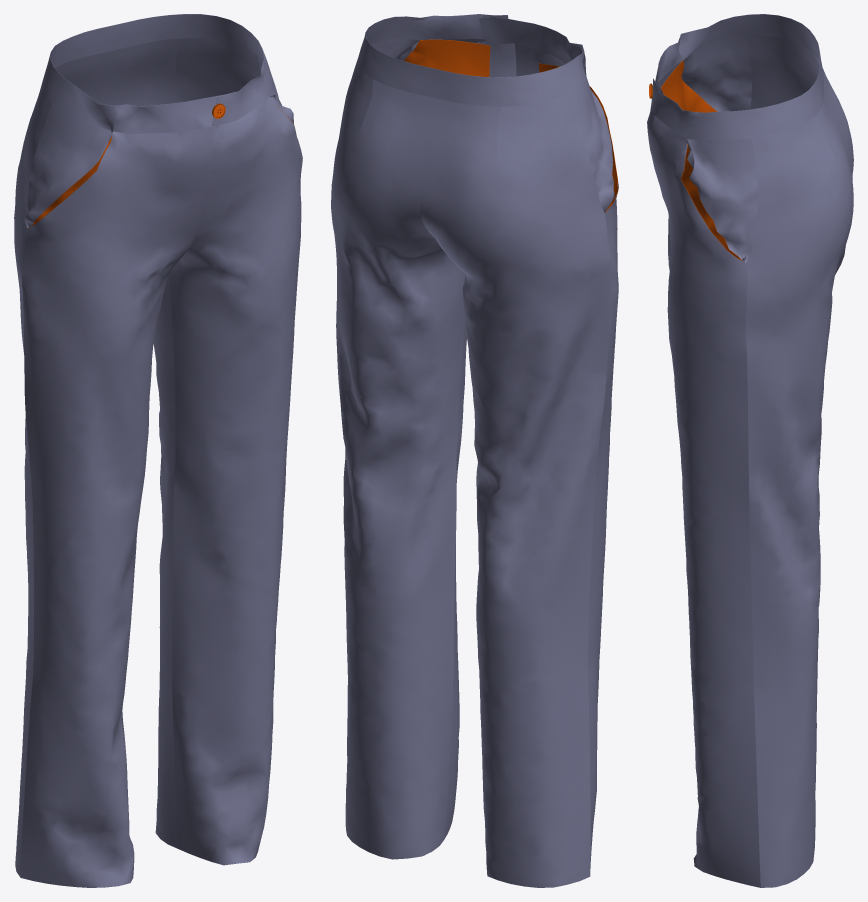
3 renders of one model, left to right at view 1: azimuth 30°, elevation 25°; view 2: azimuth 150°, elevation 25°; view 3: azimuth 270°, elevation 25°, orthographic. The views are drawn at different scales.
Parts seen in each view (by area): view 1: Pattern2D_766542, Pattern2D_766544, AMFI BAP_2, OPC00WAB4, AMFI BAP_3, Pattern2D_766543; view 2: AMFI BAP_3, AMFI BAP_2, OPC00WAB4, Pattern2D_766542, Pattern2D_766543, Pattern2D_766544, Pattern2D_766546, FLF_1, Pattern2D_766545; view 3: AMFI BAP_2, Pattern2D_766544, OPC00WAB4, Pattern2D_766545, AMFI BAP_3, Pattern2D_766543, Pattern2D_766548, Pattern2D_766546.
Boxes of the visible parts, <box> form: Pattern2D_766542: <box>20,126,212,887</box>; Pattern2D_766544: <box>169,95,302,865</box>; AMFI BAP_2: <box>101,37,260,848</box>; OPC00WAB4: <box>42,14,272,133</box>; AMFI BAP_3: <box>14,50,124,877</box>; Pattern2D_766543: <box>24,103,111,227</box>; AMFI BAP_3: <box>420,92,611,887</box>; AMFI BAP_2: <box>331,58,465,859</box>; OPC00WAB4: <box>358,14,586,106</box>; Pattern2D_766542: <box>514,43,618,868</box>; Pattern2D_766543: <box>575,71,614,212</box>; Pattern2D_766544: <box>425,39,484,838</box>; Pattern2D_766546: <box>404,39,490,76</box>; FLF_1: <box>475,42,516,77</box>; Pattern2D_766545: <box>371,39,419,60</box>; AMFI BAP_2: <box>746,86,853,887</box>; Pattern2D_766544: <box>647,107,760,887</box>; OPC00WAB4: <box>651,14,823,139</box>; Pattern2D_766545: <box>686,139,757,262</box>; AMFI BAP_3: <box>747,36,853,693</box>; Pattern2D_766543: <box>681,36,752,111</box>; Pattern2D_766548: <box>661,60,717,112</box>; Pattern2D_766546: <box>681,145,741,260</box>.
Size of the model in its own units: 40.79 by 116 by 27.89.
